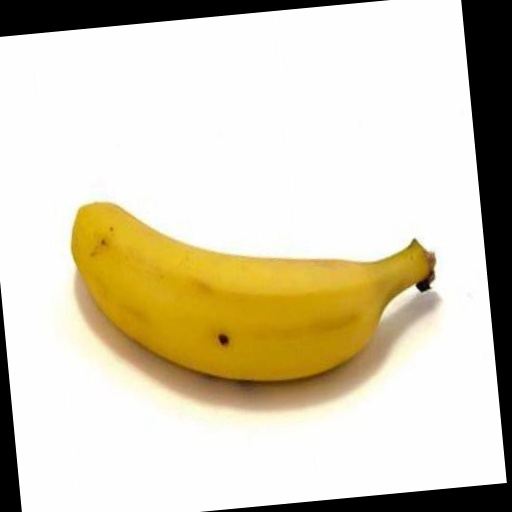fruit: (72, 203, 435, 380)
